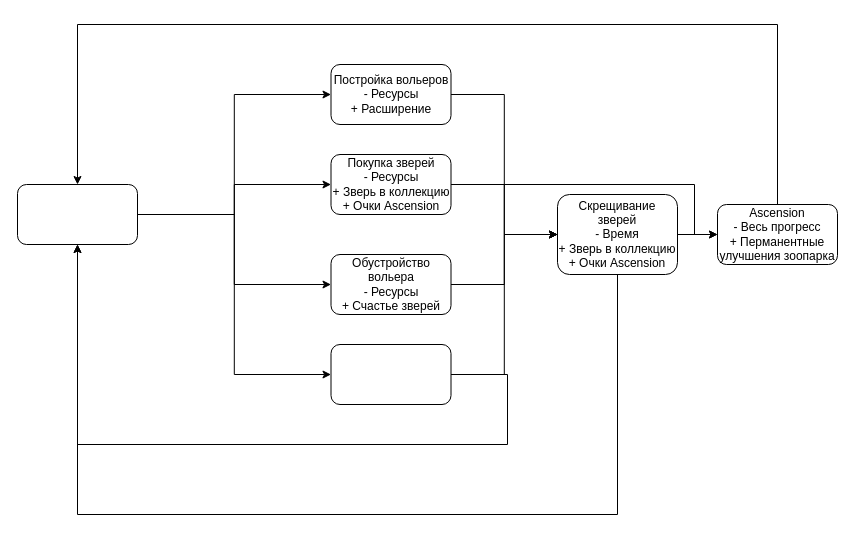
Some shapes in this 855 by 540 pixel diagram are drawn without their labels. The shapes that lost their labels are listed below. From the top down, each one's centre as x and y in pixels, then its label:
At (77,214): "Сбор прибыли + Ресурсы".
At (390,374): "Обустройство зоопарка - Ресурс + Престиж зоопарка".
